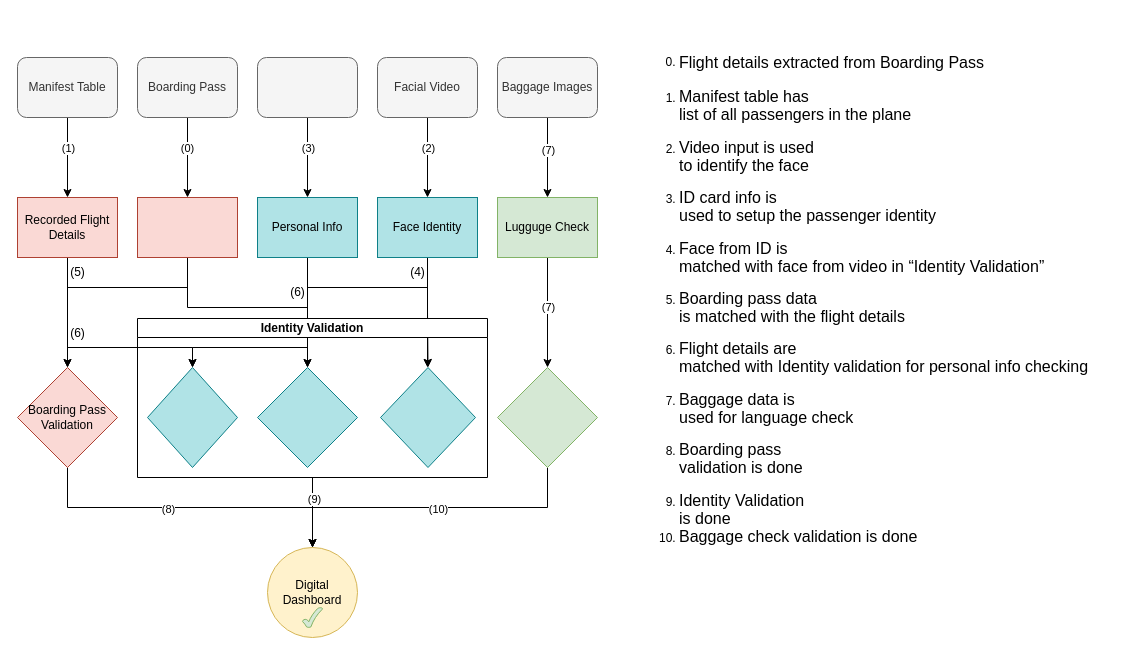
Image size: 1135x655. Some labels were removed from this diagram. Here are the shapes that lost their labels. From the top down, the centre of each, then its label:
At point 307,87: "ID card".
At point 187,227: "Flight Details".
At point 192,417: "DoB Validation".
At point 307,417: "Name Validation".
At point 428,417: "Person Validation".
At point 547,417: "Lugguge Validation".
